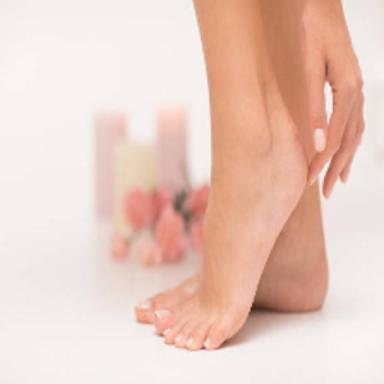normal skin: (136, 0, 364, 349)
